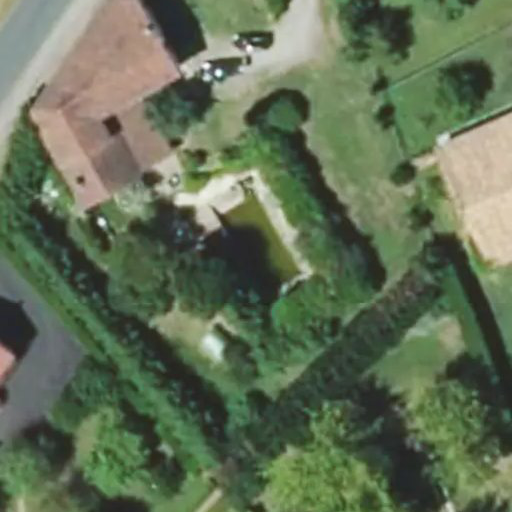pool: (206, 203, 306, 279)
